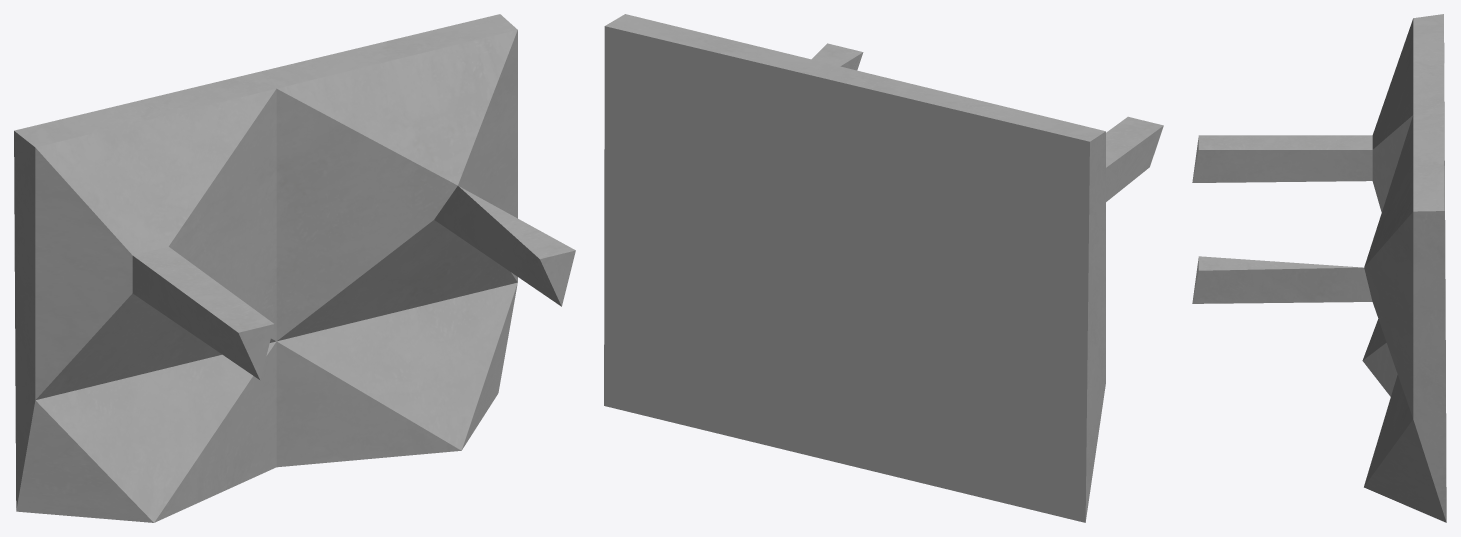
Rendered from Canopy2.fbx.
3 renders of one model, left to right at view 1: azimuth 30°, elevation 25°; view 2: azimuth 150°, elevation 25°; view 3: azimuth 270°, elevation 25°, orthographic. The views are drawn at different scales.
Parts seen in each view (by area): view 1: SM_Canopy_01_LOD1; view 2: SM_Canopy_01_LOD1; view 3: SM_Canopy_01_LOD1.
Boxes of the visible parts, x1,y1,x2,y2 form: SM_Canopy_01_LOD1: (14, 14, 575, 522); SM_Canopy_01_LOD1: (604, 14, 1163, 522); SM_Canopy_01_LOD1: (1192, 14, 1446, 522).
Bounding box in the file's own units: 8.07 × 6.06 × 4.45.
